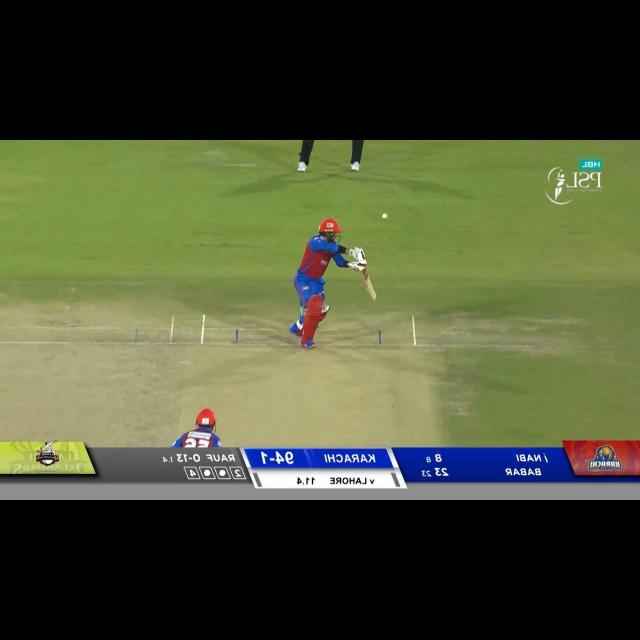bat: (360, 267, 380, 301)
toe: (370, 290, 376, 301)
